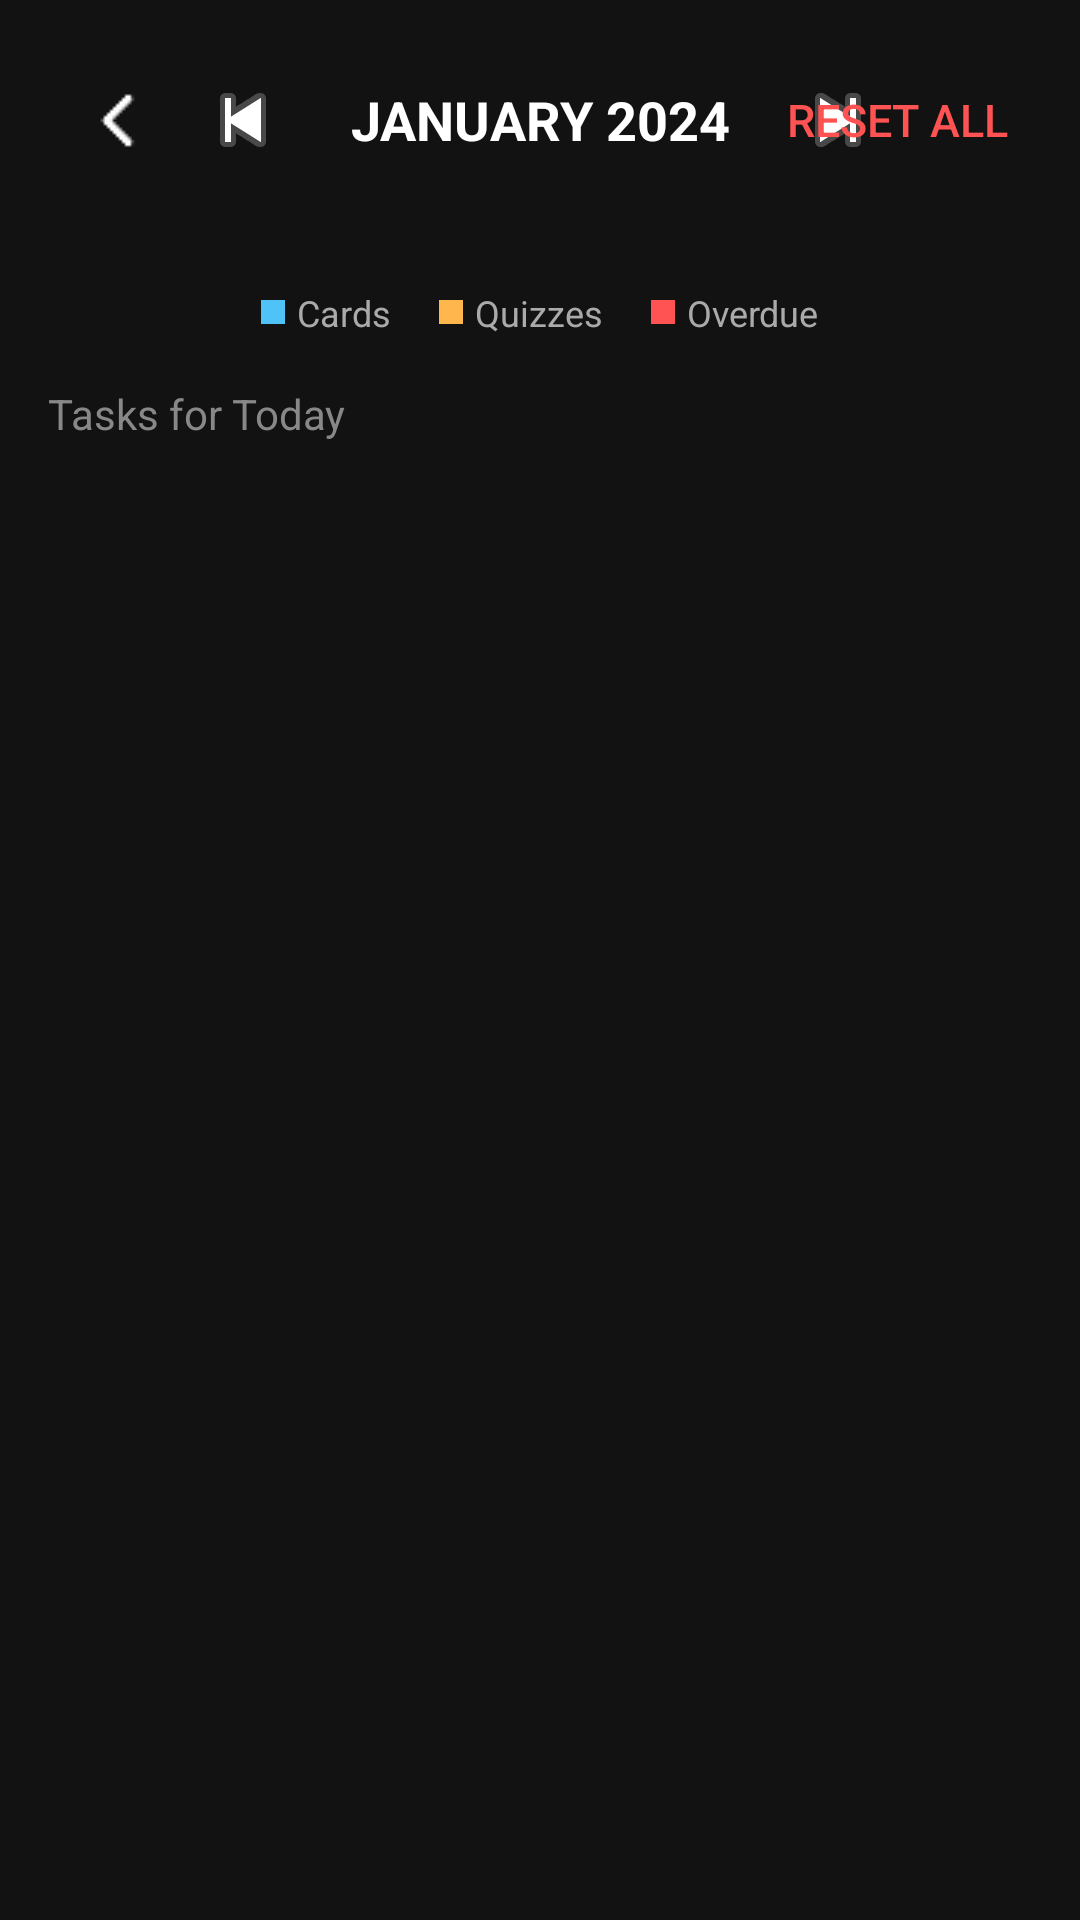

Icon bounding boxes for this 1080px×1920px phone screenshot, format (x1,y1,x2,y2):
back: (100,94,134,147)
previous: (220,93,266,147)
